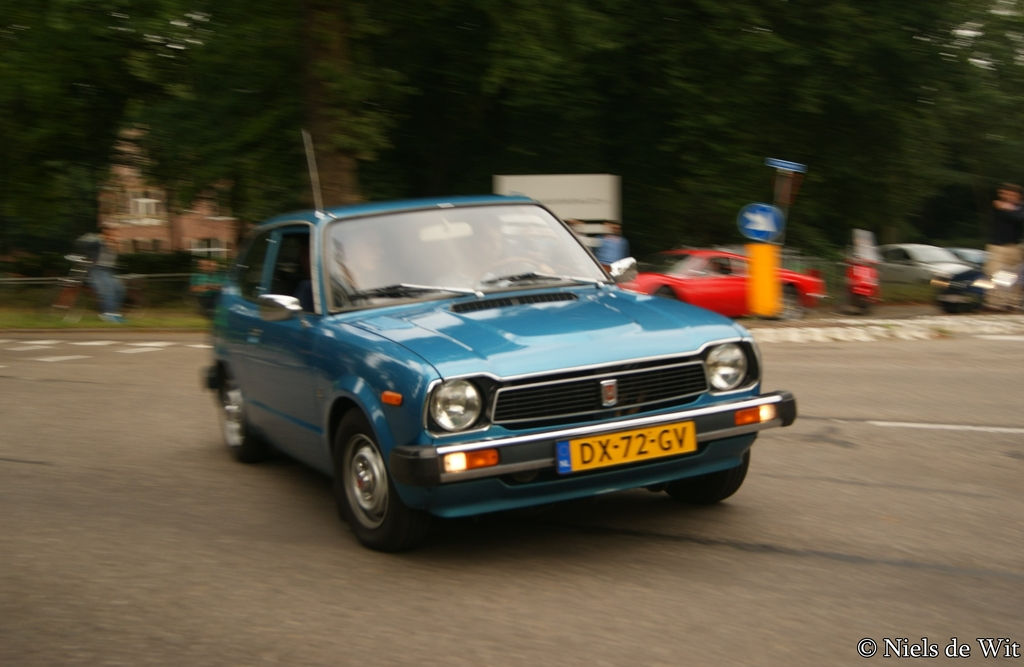Car: (201, 198, 790, 551), (612, 245, 827, 321), (865, 238, 972, 304)
